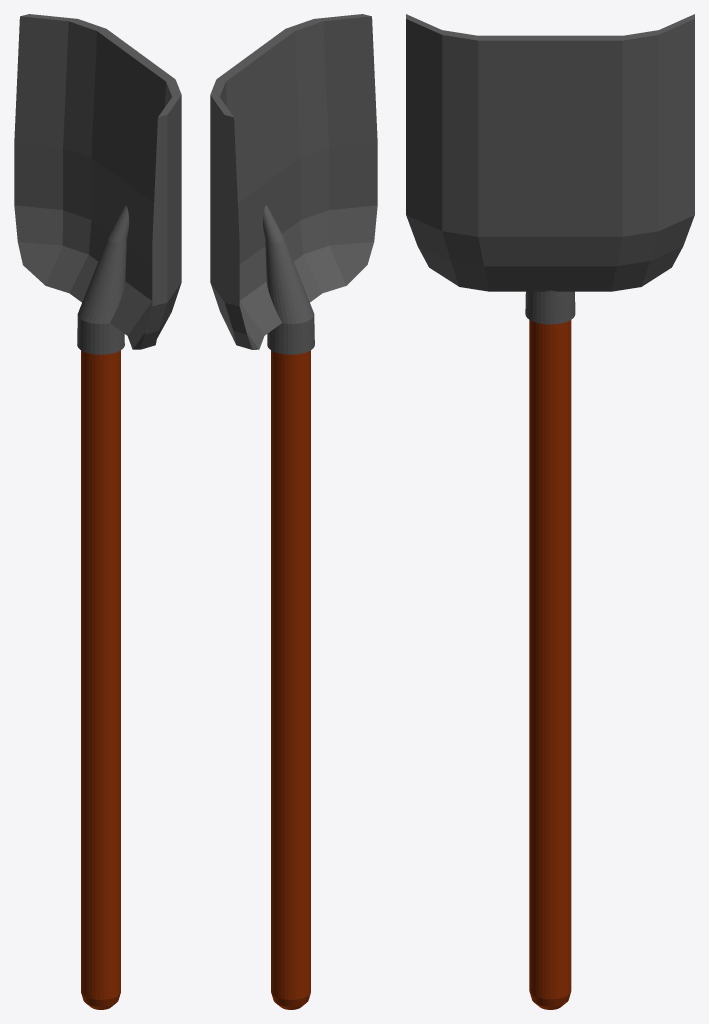
The model's file is lopata.fbx.
3 views of the same model, side by side, from view 1: azimuth 30°, elevation 25°; view 2: azimuth 150°, elevation 25°; view 3: azimuth 270°, elevation 25° (orthographic). The views are drawn at different scales.
Parts seen in each view (by area): view 1: Cube, Cylinder; view 2: Cube, Cylinder; view 3: Cube, Cylinder.
Part boxes in pixels (x1=…): Cube: x1=14, y1=14, x2=181, y2=349; Cylinder: x1=77, y1=205, x2=129, y2=1009; Cube: x1=210, y1=14, x2=377, y2=349; Cylinder: x1=263, y1=205, x2=314, y2=1009; Cube: x1=406, y1=14, x2=694, y2=291; Cylinder: x1=525, y1=290, x2=575, y2=1009.
Bounding box in the file's own units: 57.8 × 857 × 227.
